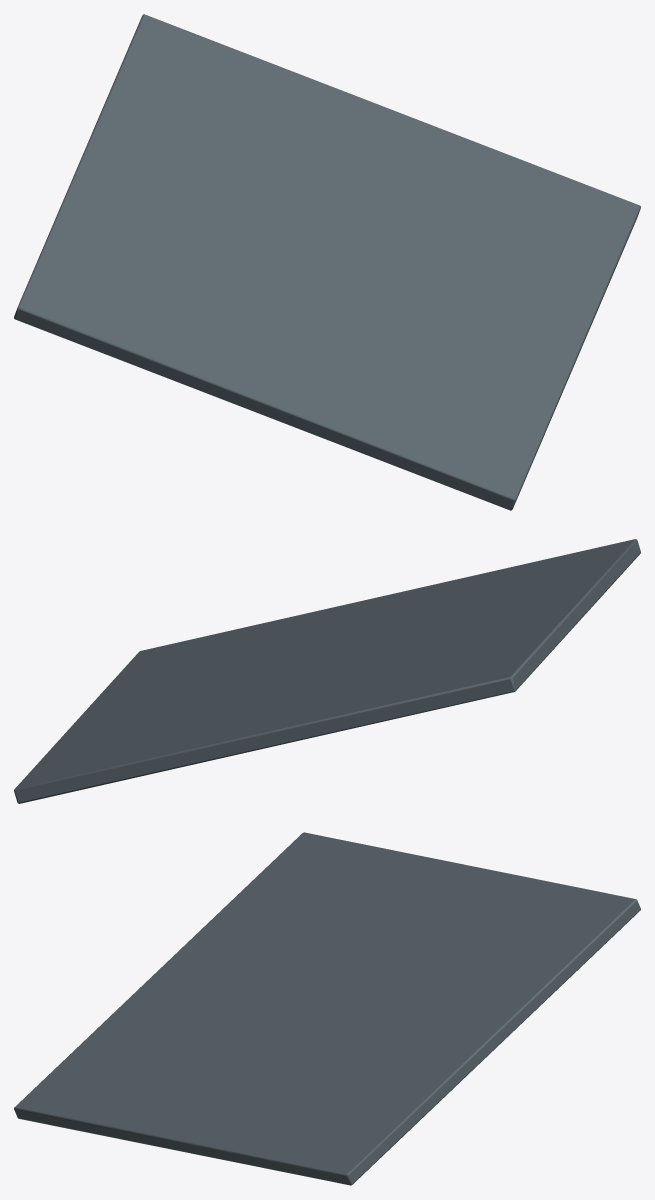
The picture shows the model from 3 angles, top to bottom: view 1: azimuth 30°, elevation 25°; view 2: azimuth 210°, elevation 25°; view 3: azimuth 270°, elevation 25°; orthographic projection. The views are drawn at different scales.
Parts seen in each view (by area): view 1: Cube.010; view 2: Cube.010; view 3: Cube.010.
Part boxes in pixels (<box>): Cube.010: <box>14,14,640,510</box>; Cube.010: <box>14,539,640,803</box>; Cube.010: <box>14,832,640,1185</box>.
Bounding box in the file's own units: 2.28 × 0.8113 × 2.17.
Materials: 1 (1 with a texture image).
